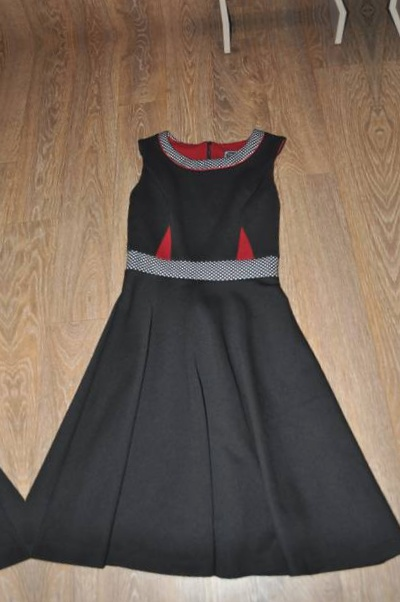Dress: (0, 95, 400, 602), (0, 134, 27, 602), (378, 58, 400, 572)
